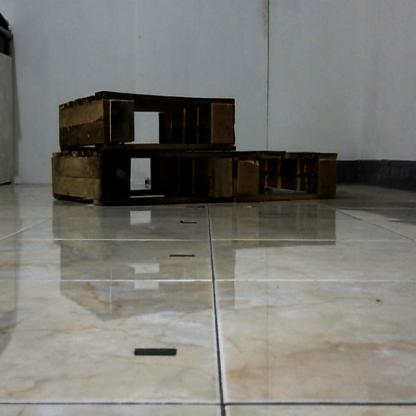Wooden-Pallet: (58, 89, 238, 153), (51, 150, 235, 207), (237, 148, 339, 199)
